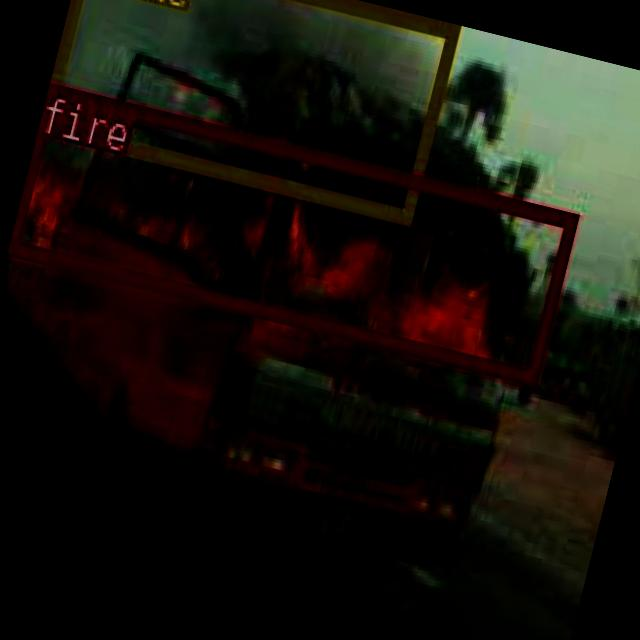fire: (8, 81, 578, 382)
smoke: (38, 0, 456, 219)
